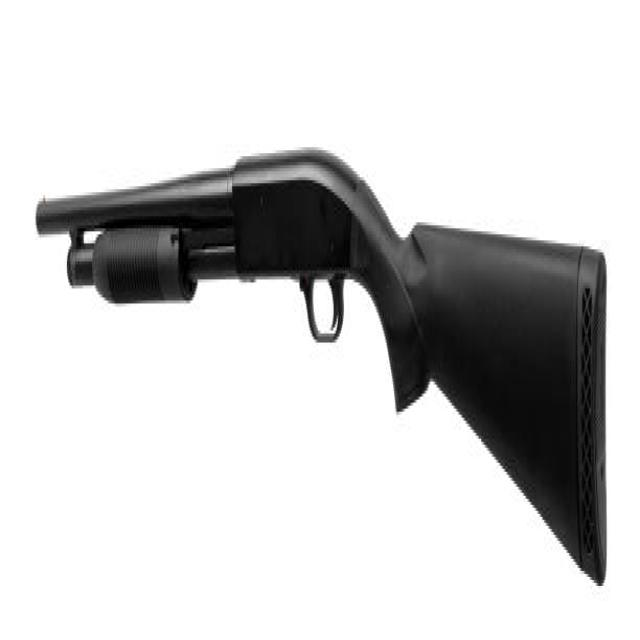rifle: (32, 127, 621, 597)
